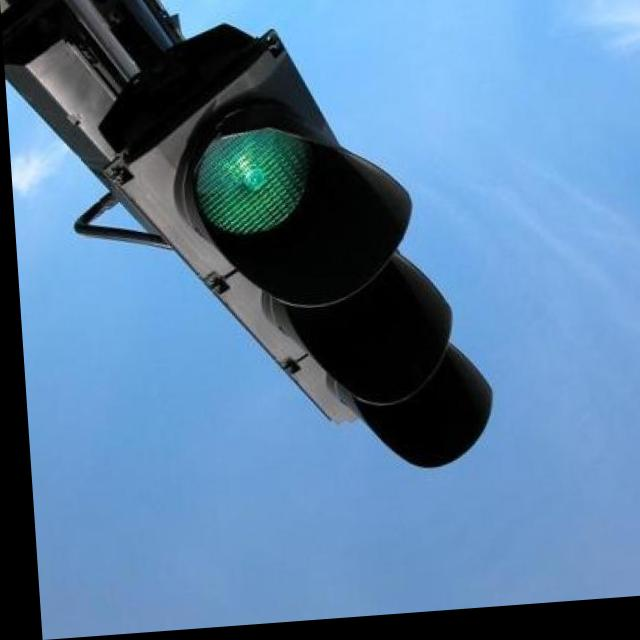green light: (124, 10, 486, 491)
